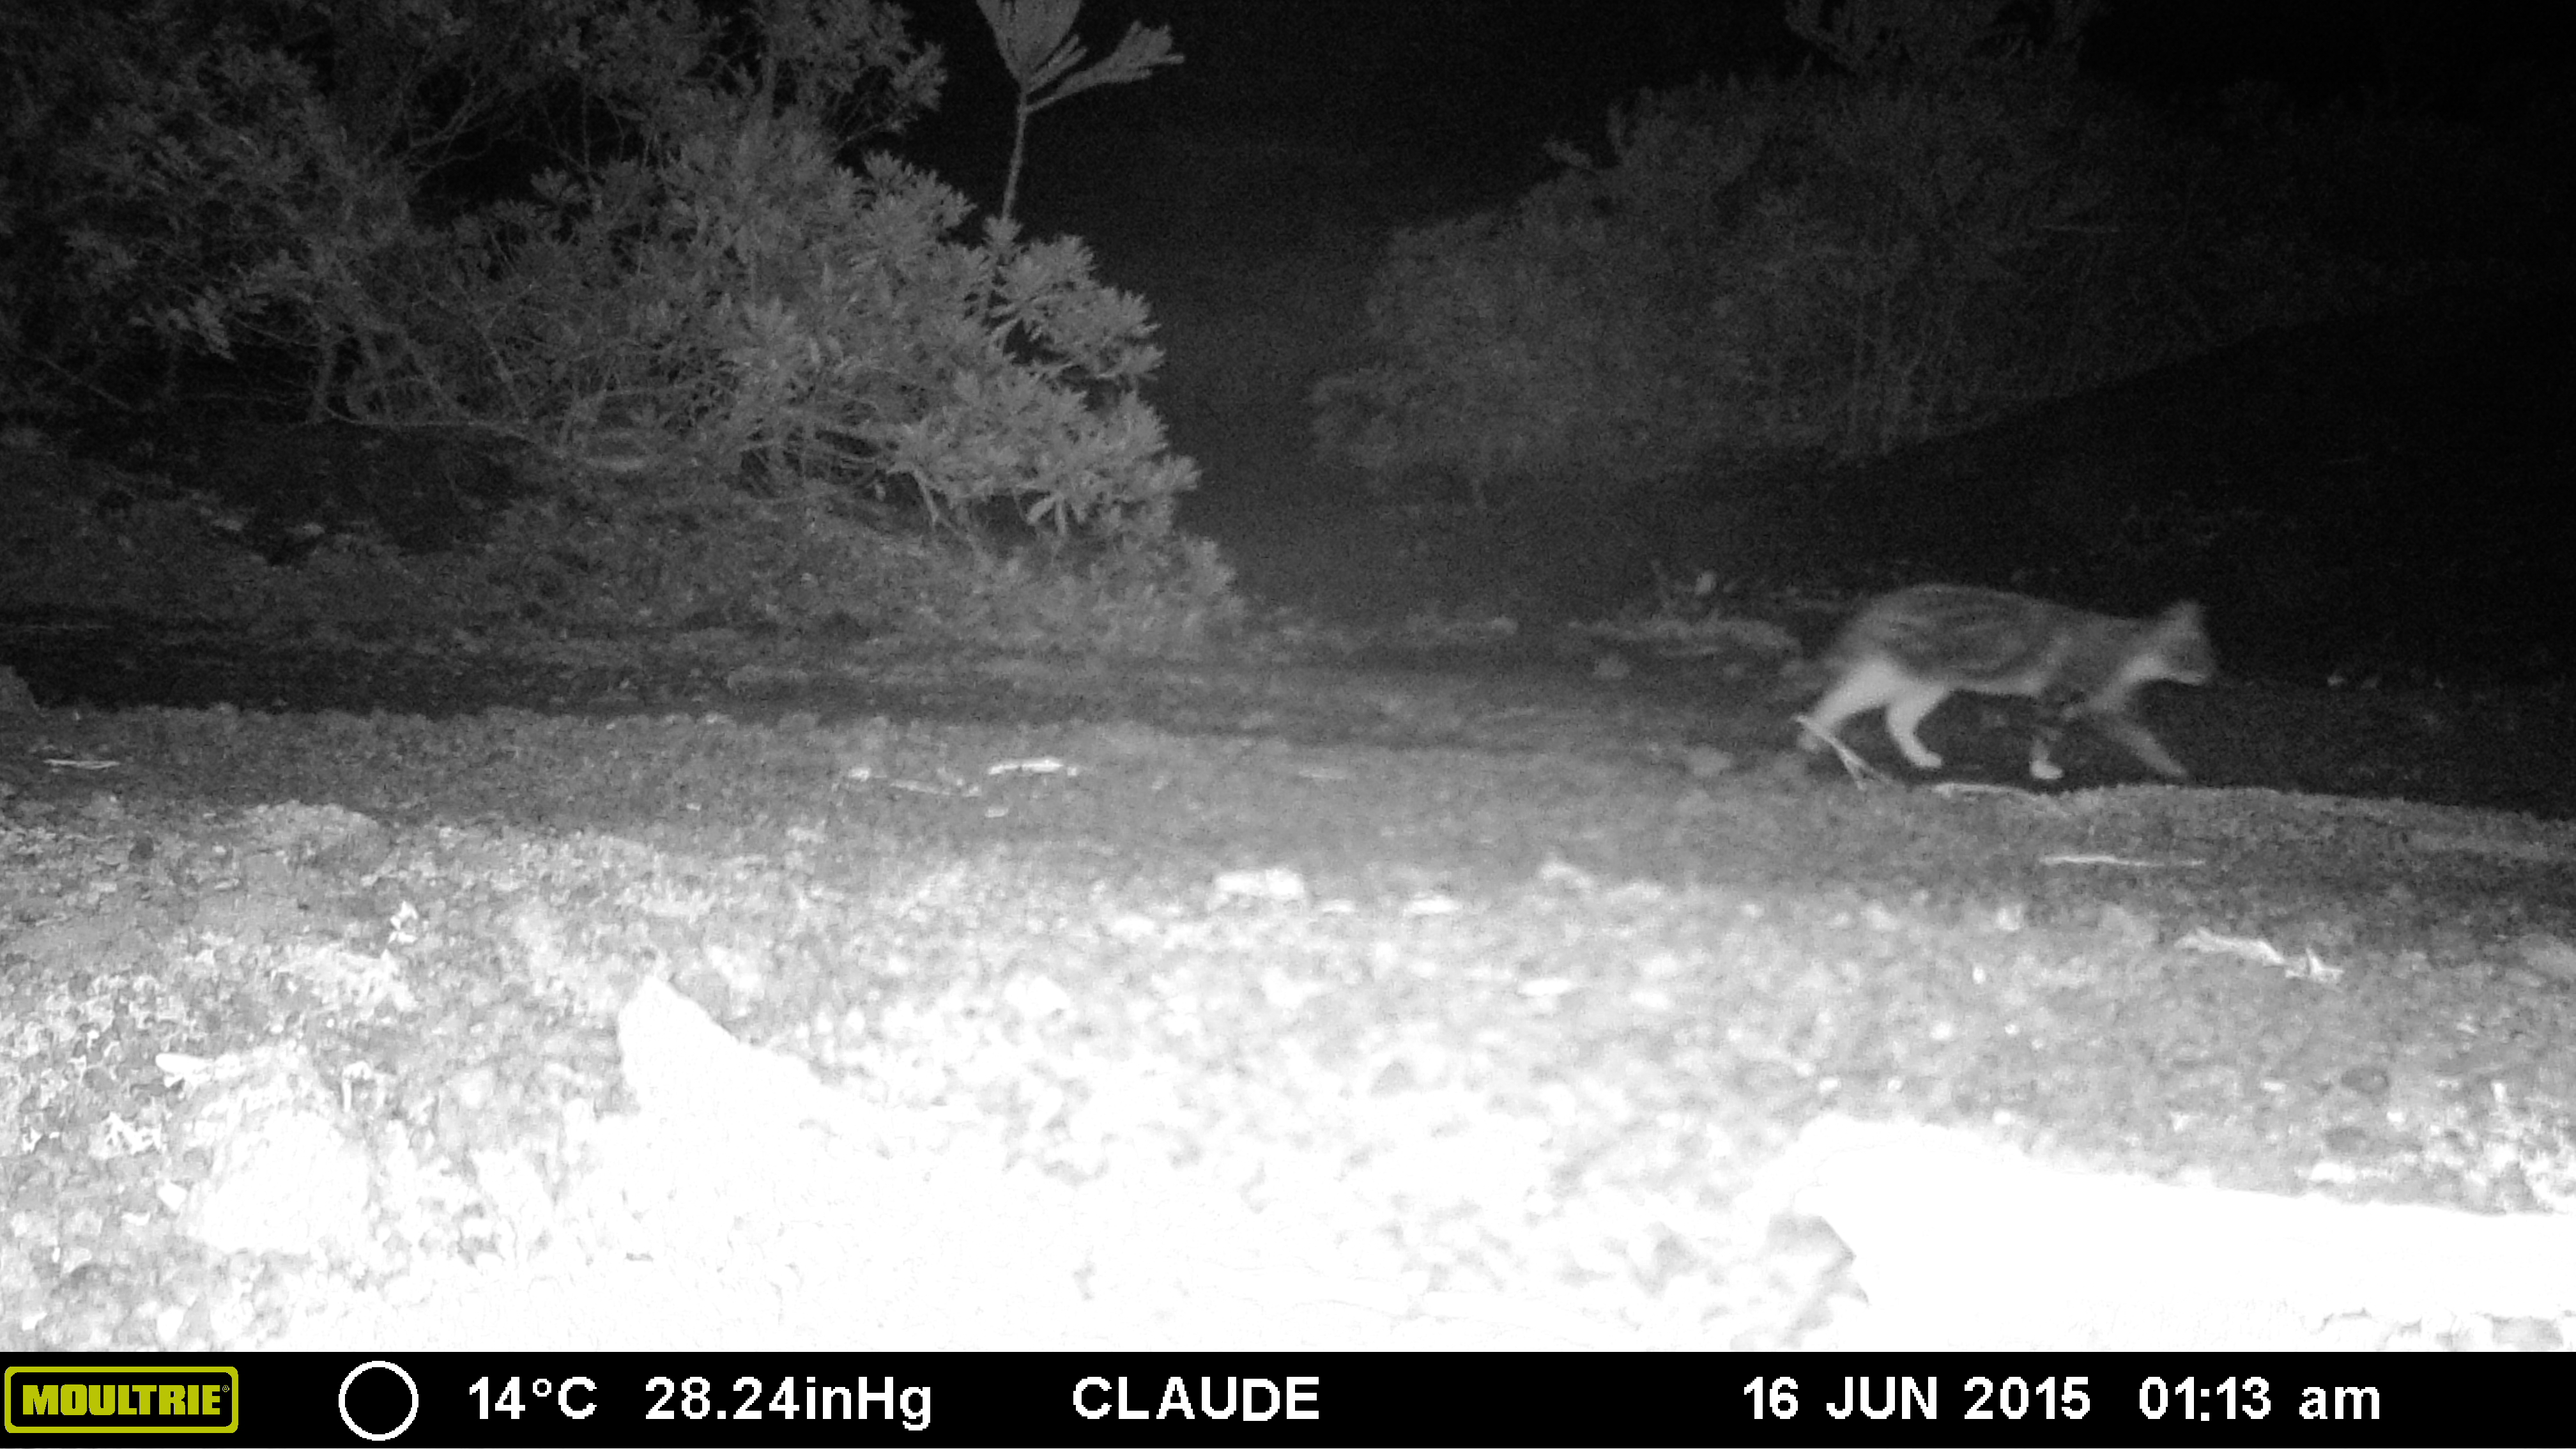cat: (1801, 561, 2236, 816)
